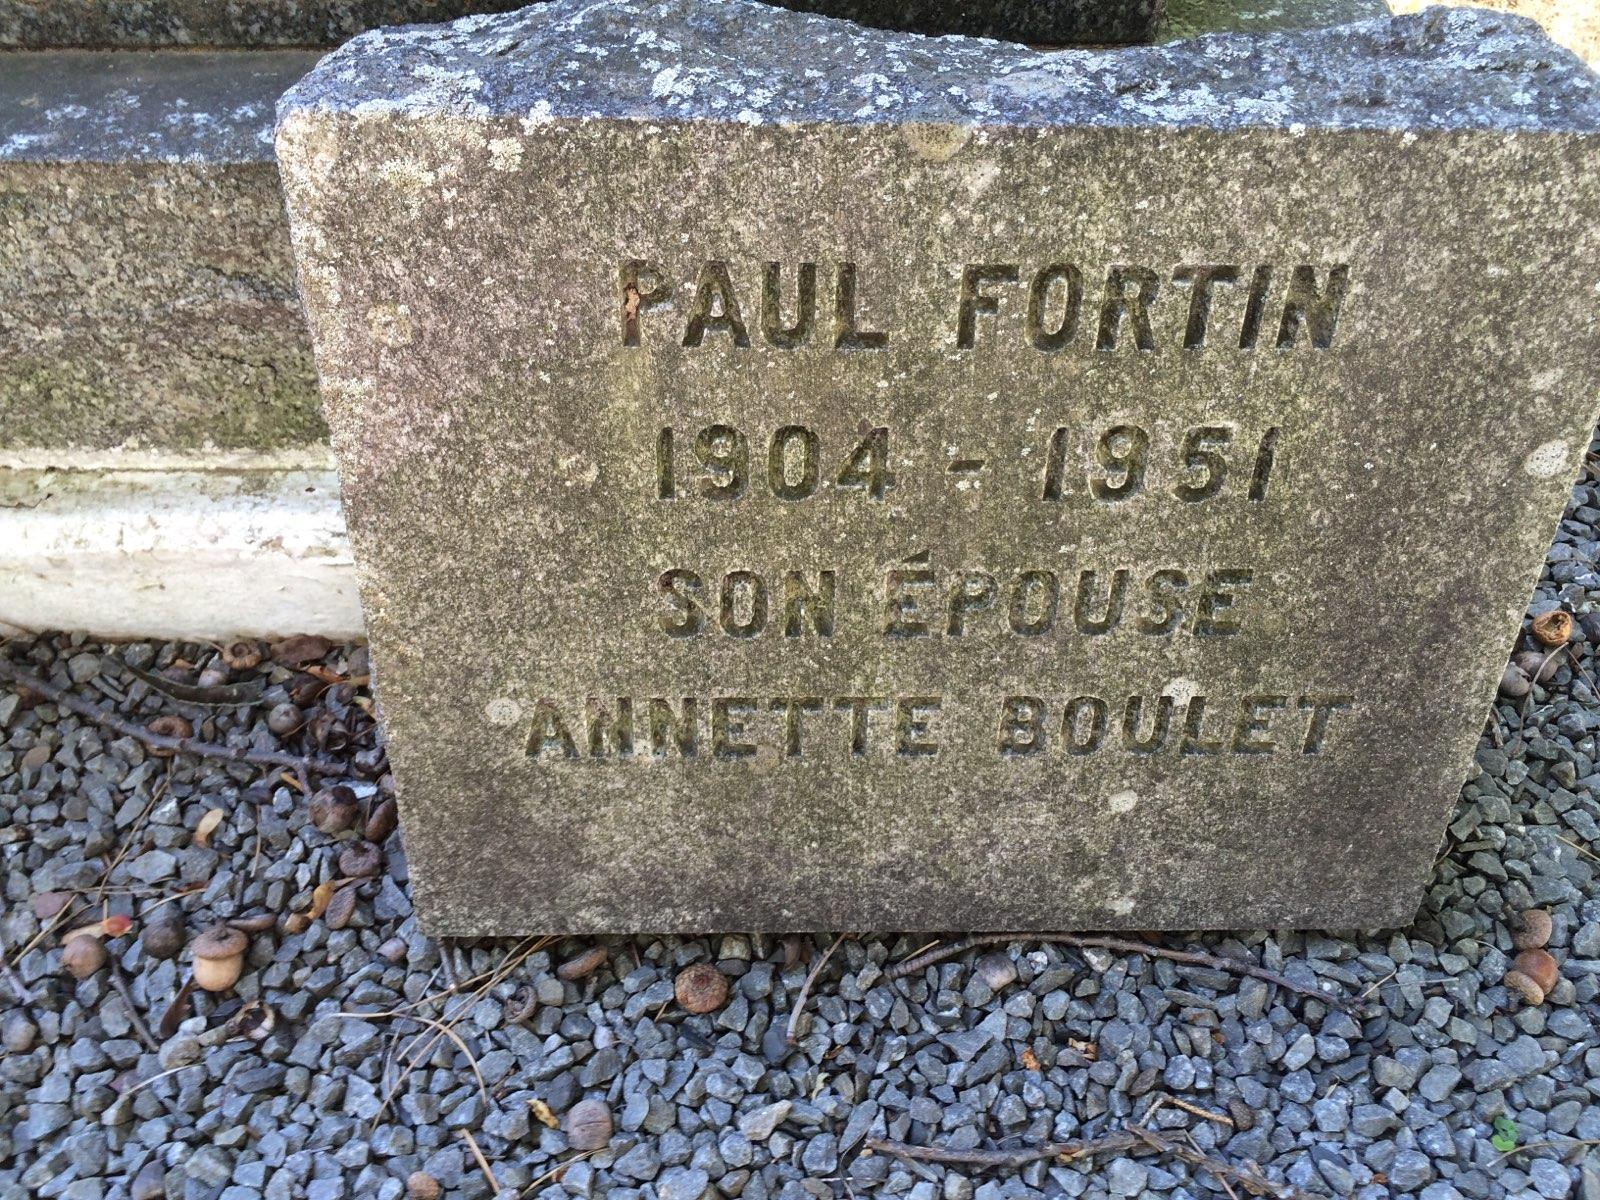upright: (256, 13, 1600, 938)
